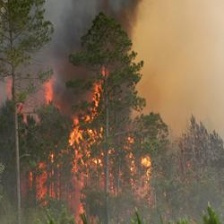fire: (57, 88, 134, 194)
smoke: (137, 3, 213, 139), (26, 1, 101, 83)
